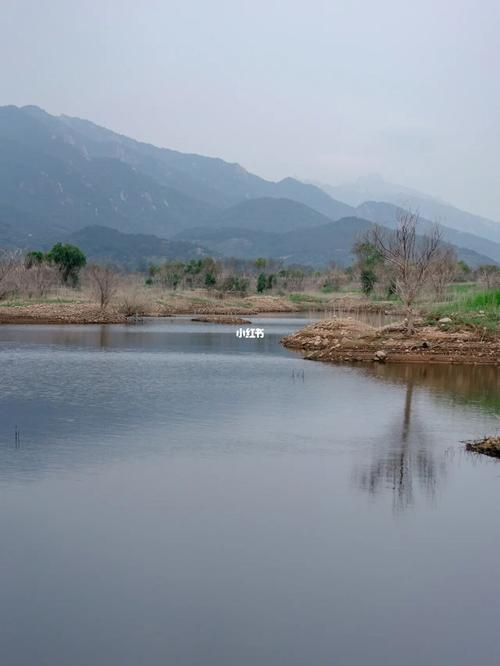mountain: (0, 108, 405, 254)
sea_river: (13, 343, 427, 470)
